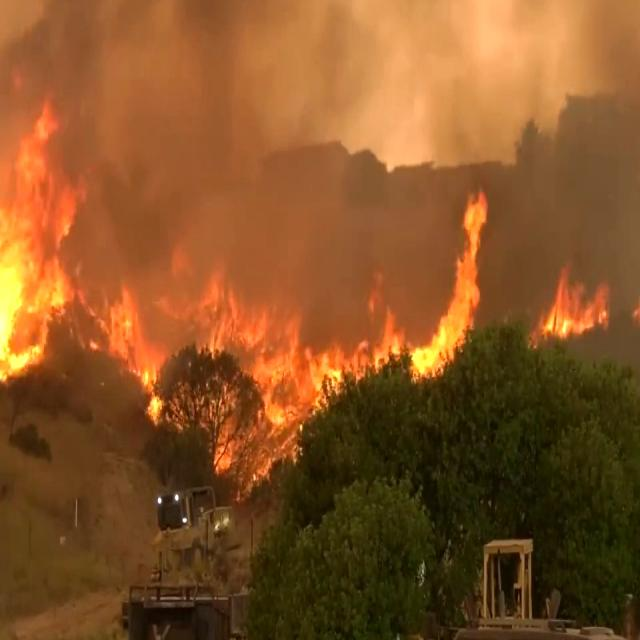fire: (0, 142, 80, 384), (214, 276, 334, 420), (410, 194, 497, 370)
smoke: (17, 0, 210, 109)
